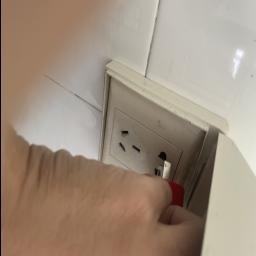outlet: (89, 63, 238, 208)
